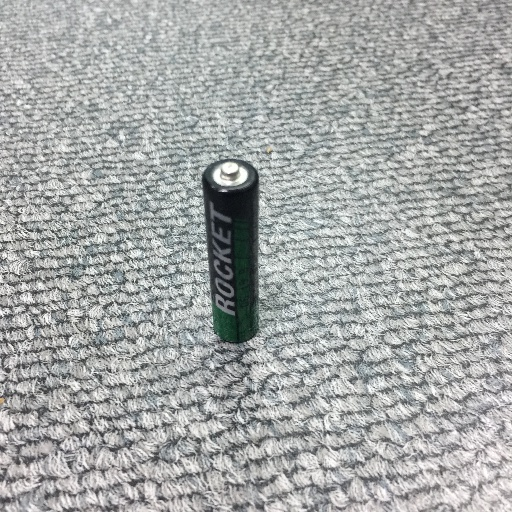Battery_0: (196, 149, 272, 350)
